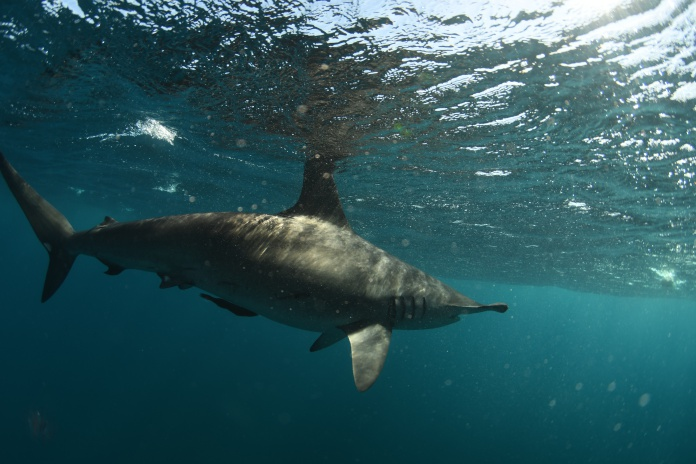Hammer: (1, 131, 524, 415)
